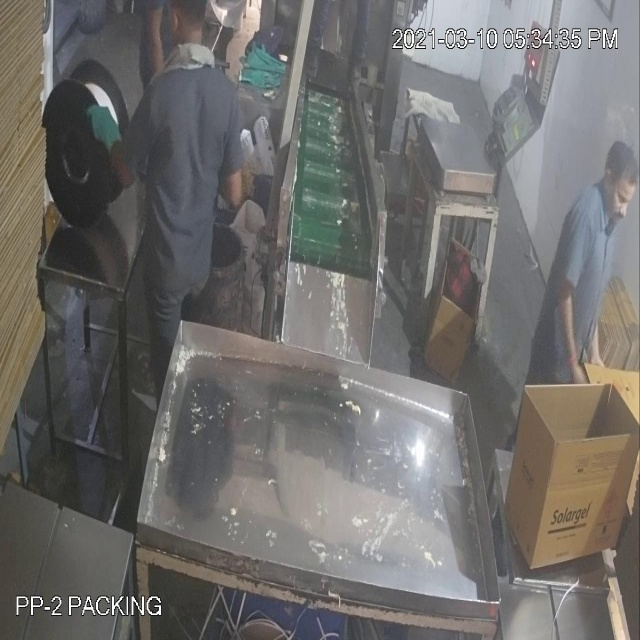Sin_guantes: (550, 266, 594, 400)
